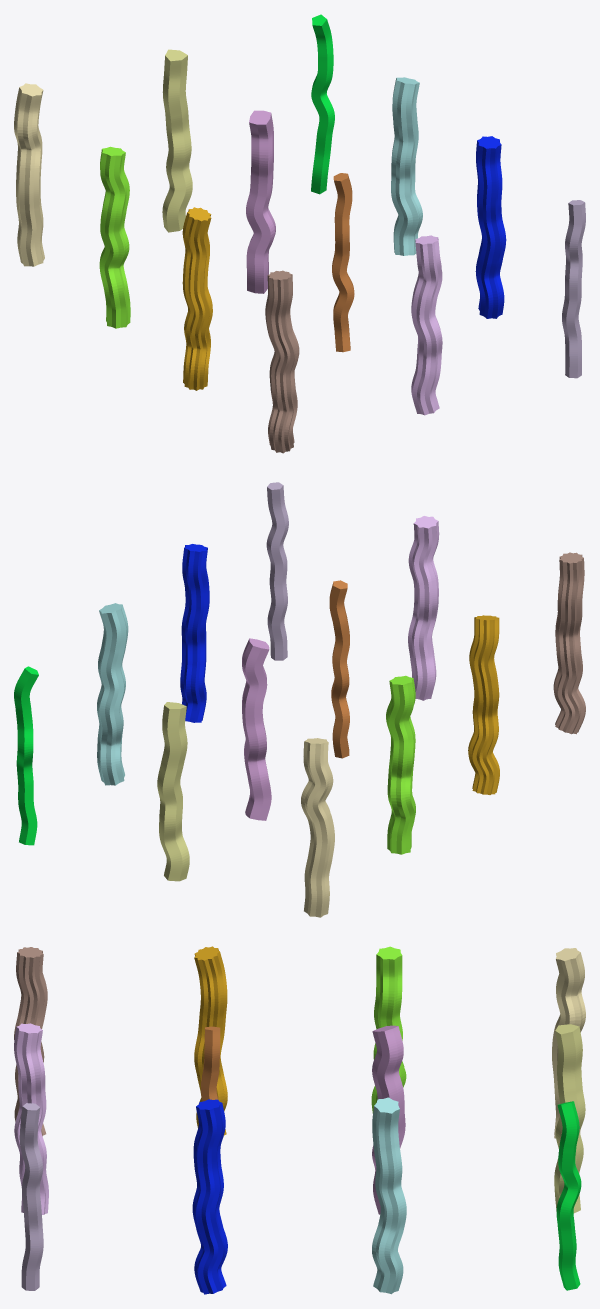
The model's file is Lambert Flat_Opened Spline_2023-07-23-20-47-44.gltf.
3 views of the same model, one above another, from view 1: azimuth 30°, elevation 25°; view 2: azimuth 150°, elevation 25°; view 3: azimuth 270°, elevation 25° (orthographic). The views are drawn at different scales.
Size of the model in its own units: 438 by 234 by 639.
